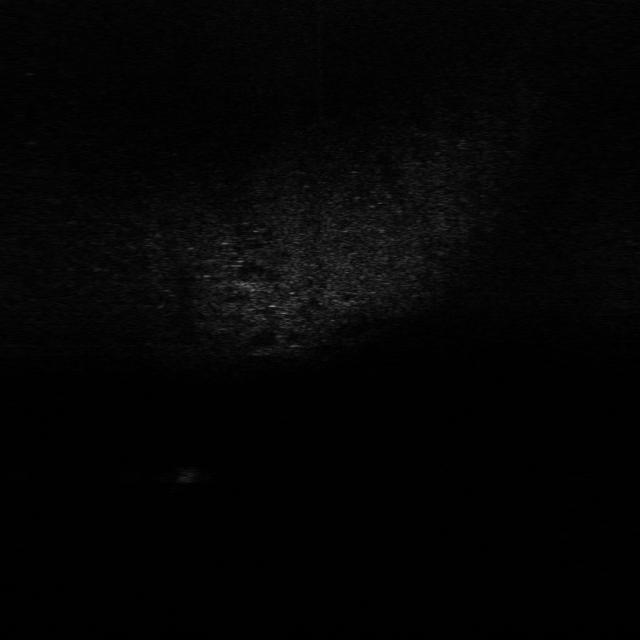cylinder: (180, 463, 202, 486)
